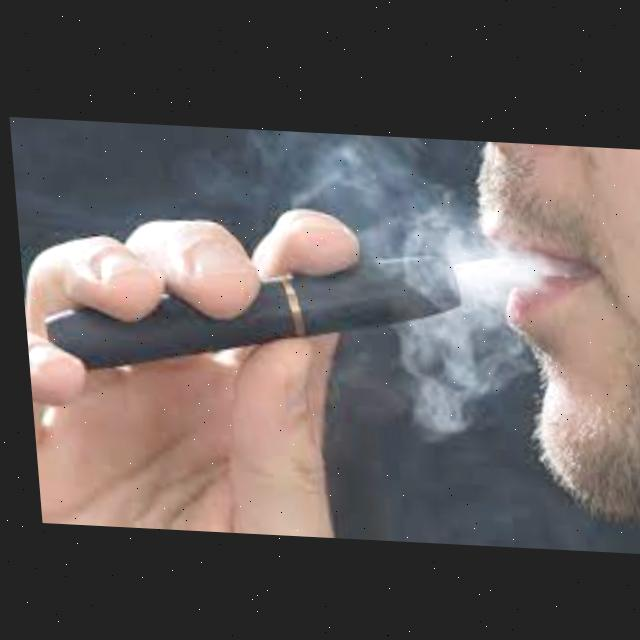vape: (32, 232, 535, 391)
